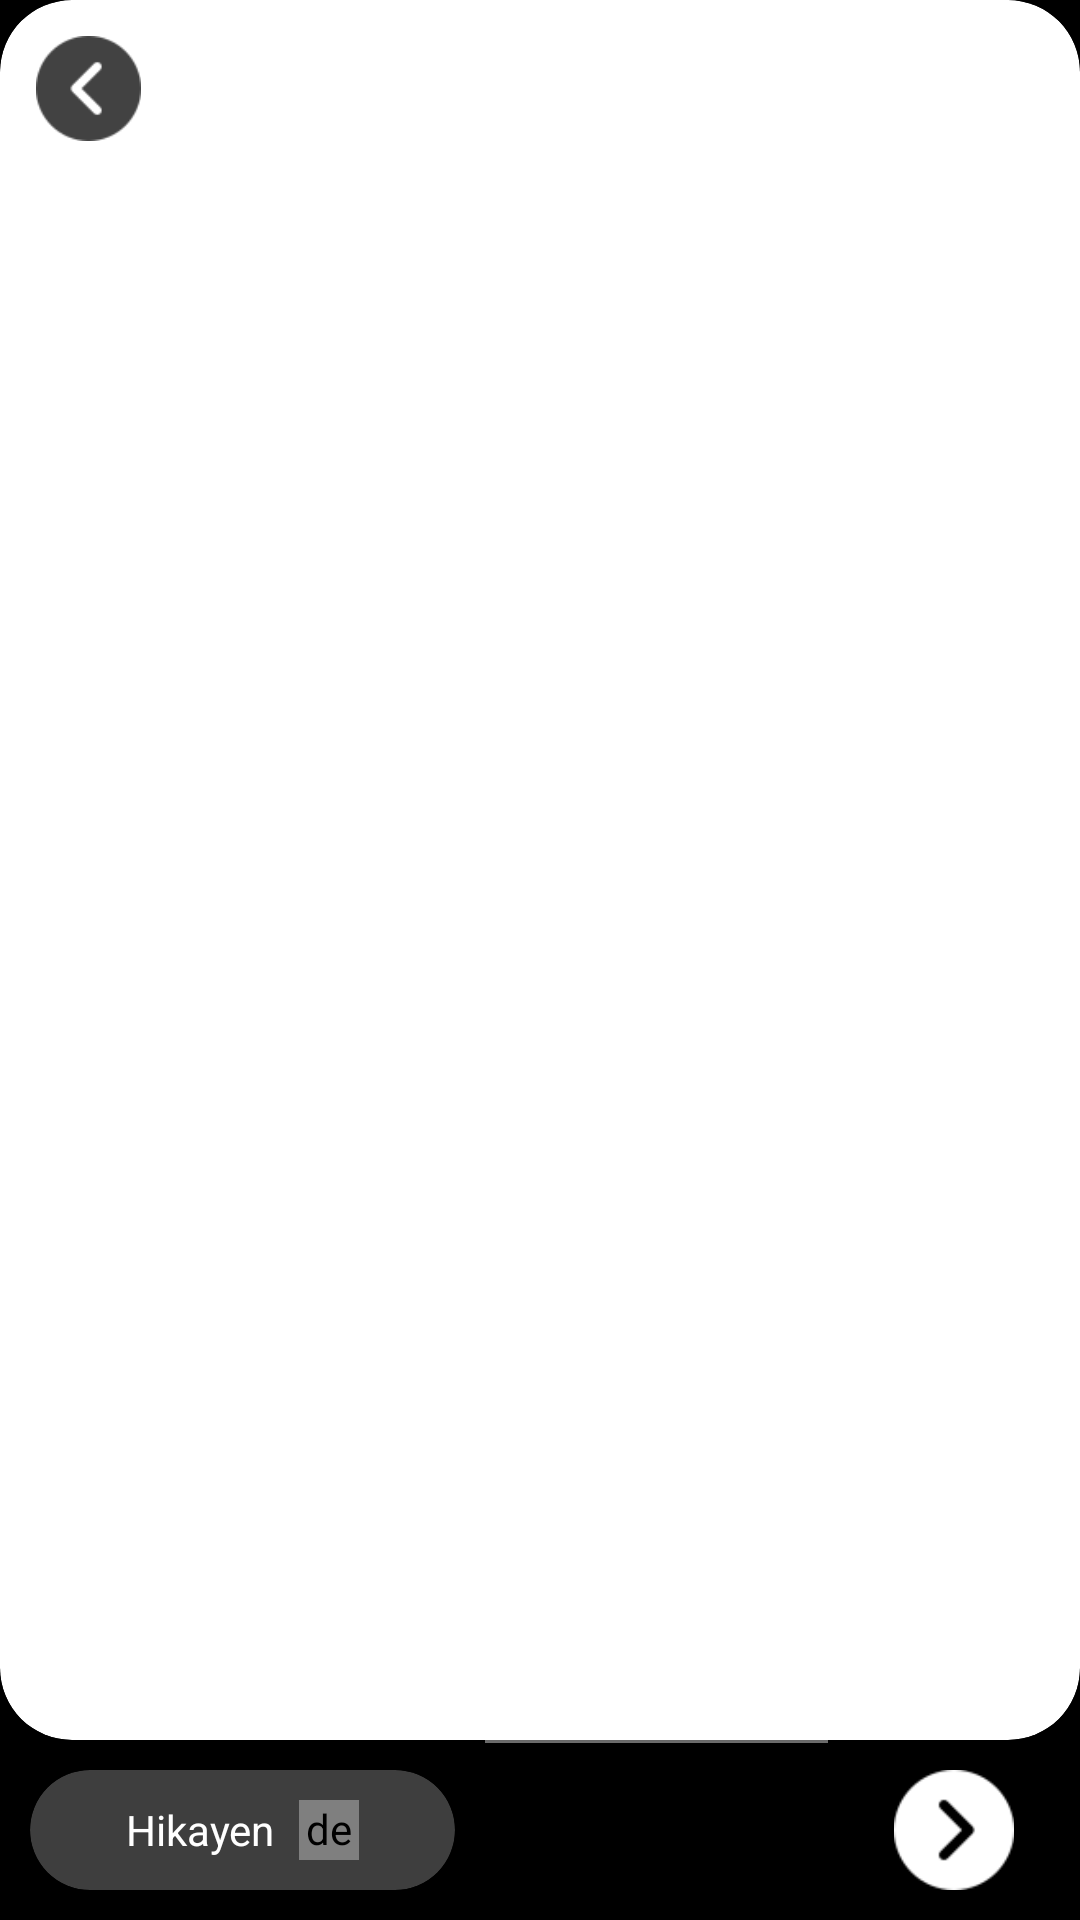

Where icons sit on this 1080w x 1920h app screen, as (x1, y1, x2, y2):
back modern: (36, 36, 141, 141)
next: (894, 1770, 1014, 1890)
